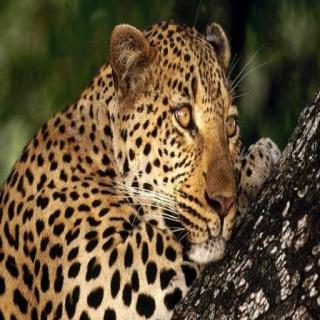Leopard: (21, 35, 320, 320)
